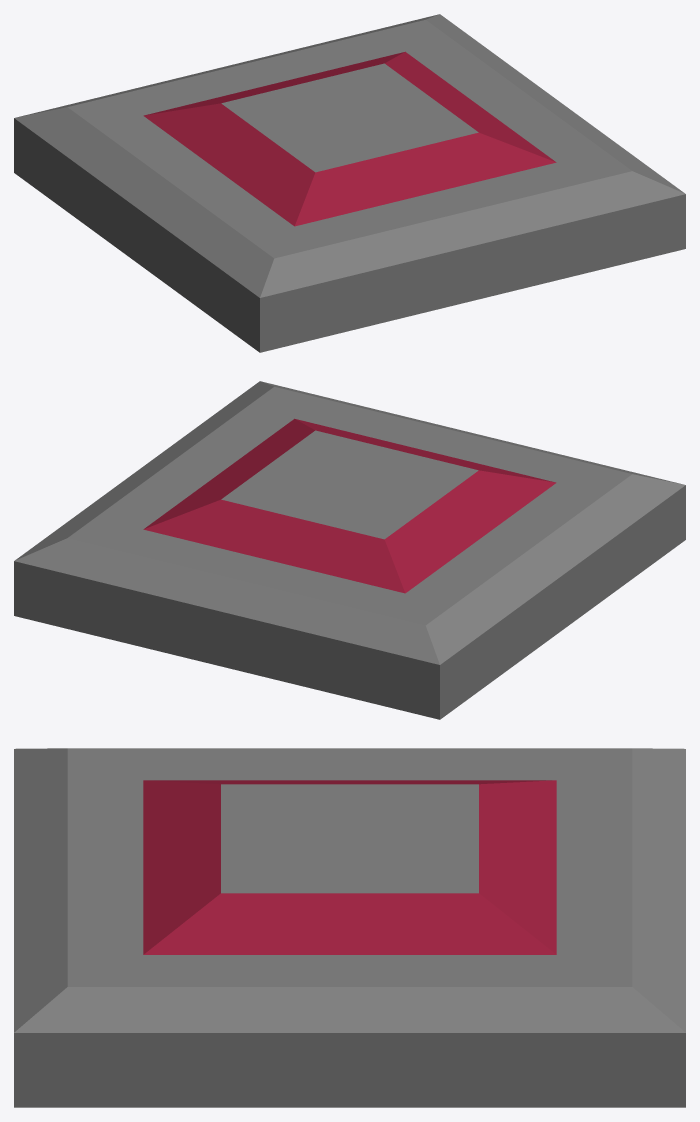
Rendered from gear_button_01.fbx.
The picture shows the model from 3 angles, top to bottom: view 1: azimuth 30°, elevation 25°; view 2: azimuth 150°, elevation 25°; view 3: azimuth 270°, elevation 25°; orthographic projection. The views are drawn at different scales.
Visible parts, largest first — view 1: gear_button_01; view 2: gear_button_01; view 3: gear_button_01.
Part boxes in pixels (<box>): gear_button_01: <box>14,14,685,352</box>; gear_button_01: <box>14,381,685,719</box>; gear_button_01: <box>14,748,685,1107</box>.
Bounding box in the file's own units: 1 × 0.2084 × 1.
Materials: 1 (1 with a texture image).
